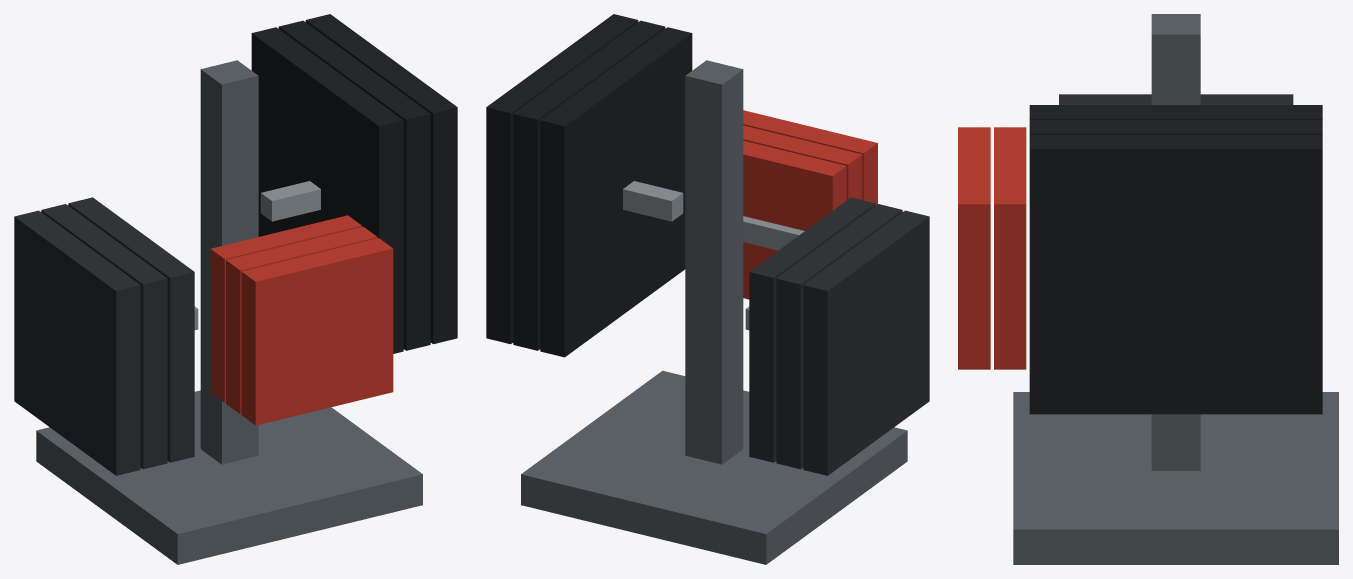
File: PlateTree.fbx
3 views of the same model, side by side, from view 1: azimuth 30°, elevation 25°; view 2: azimuth 150°, elevation 25°; view 3: azimuth 270°, elevation 25° (orthographic). The views are drawn at different scales.
Parts seen in each view (by area): view 1: PlateTree_Mesh; view 2: PlateTree_Mesh; view 3: PlateTree_Mesh.
Boxes of the visible parts, left/top/right/bottom form: PlateTree_Mesh: left=14, top=14, right=457, bottom=564; PlateTree_Mesh: left=486, top=14, right=929, bottom=564; PlateTree_Mesh: left=958, top=14, right=1338, bottom=564.
Size of the model in its own units: 1.34 by 1.6 by 1.17.
Materials: 1 (1 with a texture image).
